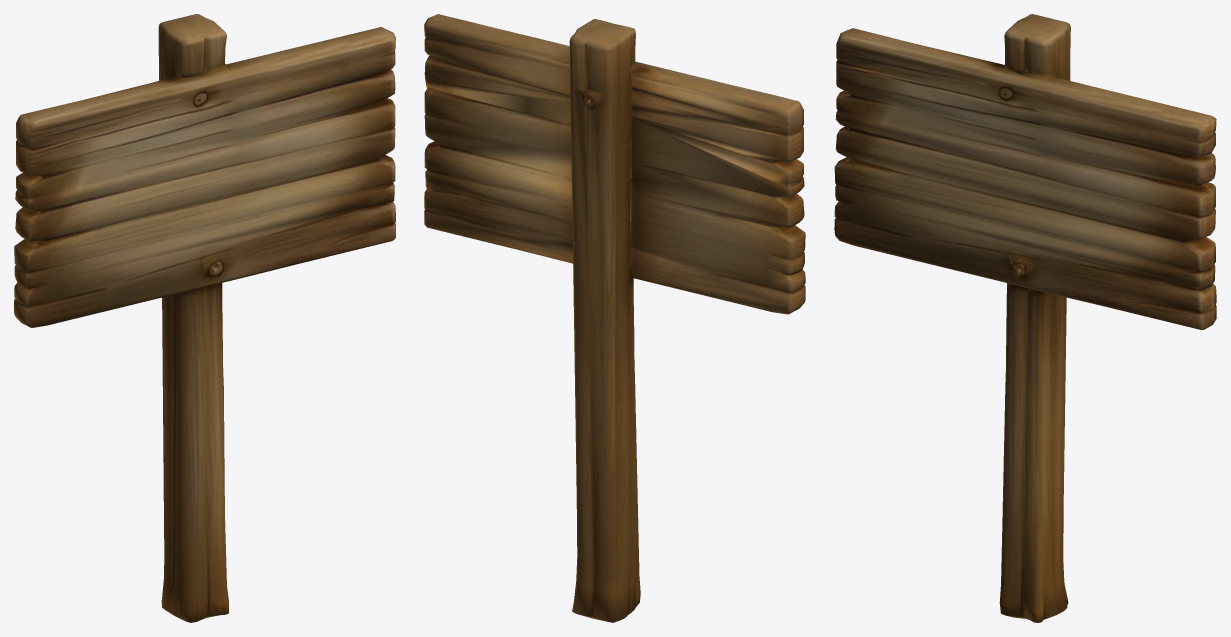
File: placa.glb
3 views of the same model, side by side, from view 1: azimuth 30°, elevation 25°; view 2: azimuth 150°, elevation 25°; view 3: azimuth 330°, elevation 25° (orthographic).
Parts seen in each view (by area): view 1: material_Material.001_0; view 2: material_Material.001_0; view 3: material_Material.001_0.
Boxes of the visible parts, x1,y1,x2,y2 form: material_Material.001_0: (14, 14, 395, 622); material_Material.001_0: (424, 14, 805, 622); material_Material.001_0: (834, 14, 1216, 622).
Bounding box in the file's own units: 1.28 × 1.9 × 0.2285.
1 material, 1 textured.
